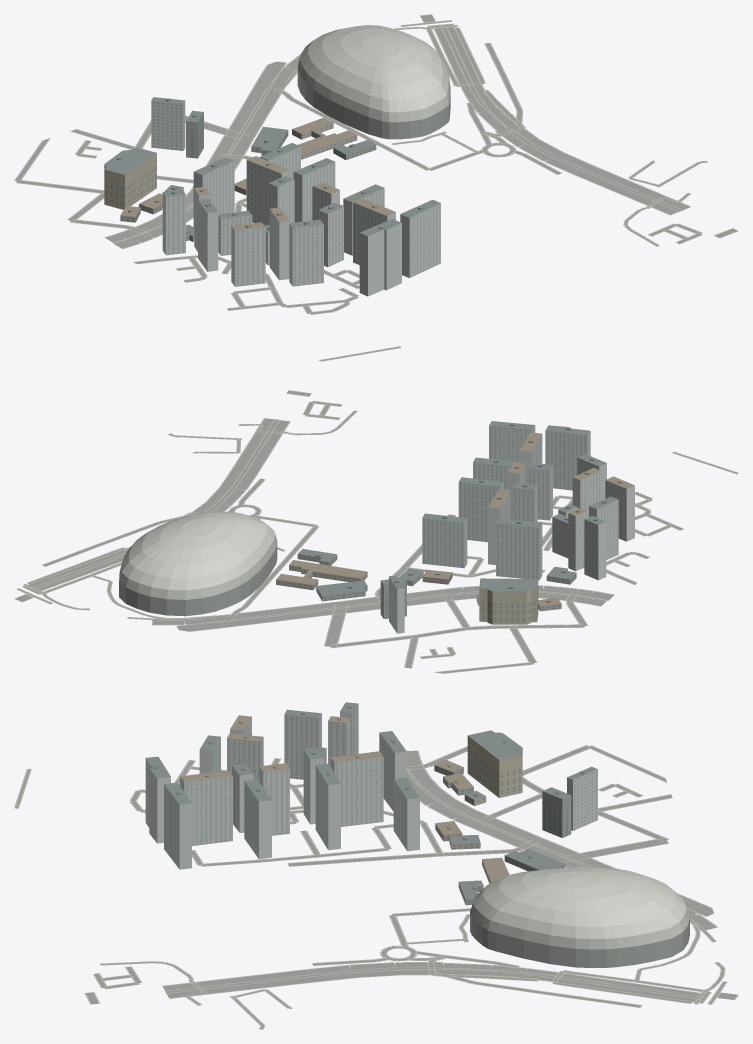
3 views of the same model, one above another, from view 1: azimuth 30°, elevation 25°; view 2: azimuth 150°, elevation 25°; view 3: azimuth 270°, elevation 25° (orthographic). The views are drawn at different scales.
Visible parts, largest first — view 1: context-osm-buildings, context-osm-roads, context-osm-sidewalks; view 2: context-osm-buildings, context-osm-roads, context-osm-sidewalks; view 3: context-osm-buildings, context-osm-roads, context-osm-sidewalks.
Part boxes in pixels (x1,y1,x2,y2): context-osm-buildings: (104, 25, 450, 296); context-osm-roads: (15, 15, 737, 361); context-osm-sidewalks: (14, 14, 738, 361); context-osm-buildings: (119, 421, 634, 633); context-osm-roads: (15, 390, 737, 673); context-osm-sidewalks: (14, 390, 738, 673); context-osm-buildings: (145, 702, 689, 967); context-osm-roads: (15, 745, 736, 1029); context-osm-sidewalks: (14, 745, 738, 1029).
Bounding box in the file's own units: 658 × 71.43 × 708.
